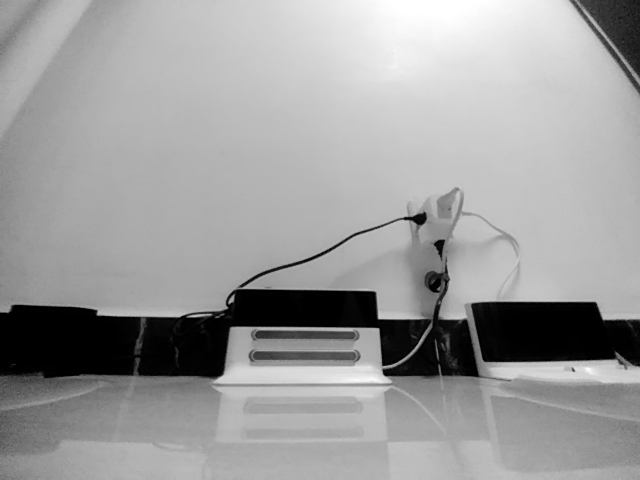Ruby: (210, 288, 395, 388)
TanosV: (463, 298, 639, 386), (1, 303, 98, 377)
